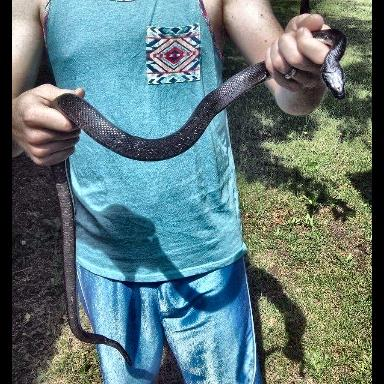snake: (52, 63, 270, 162), (51, 162, 123, 353), (314, 27, 348, 99)
